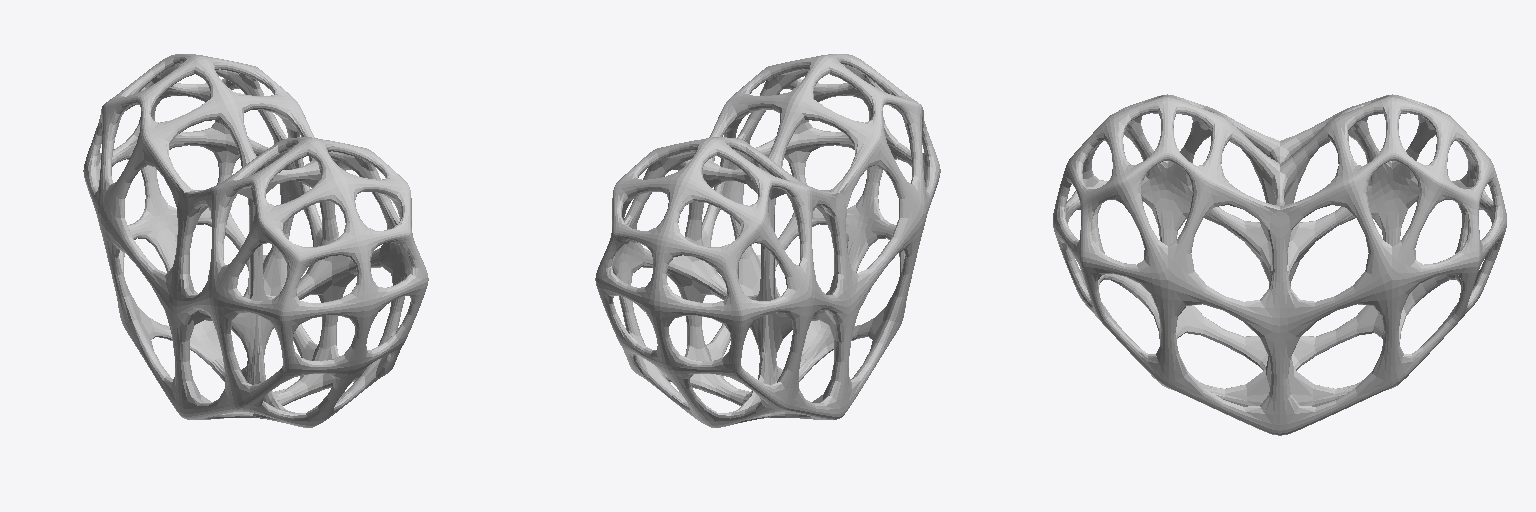
Rendered from heart.obj.
3 renders of one model, left to right at view 1: azimuth 30°, elevation 25°; view 2: azimuth 150°, elevation 25°; view 3: azimuth 270°, elevation 25°, orthographic.
Size of the model in its own units: 1.02 by 1.55 by 2.03.